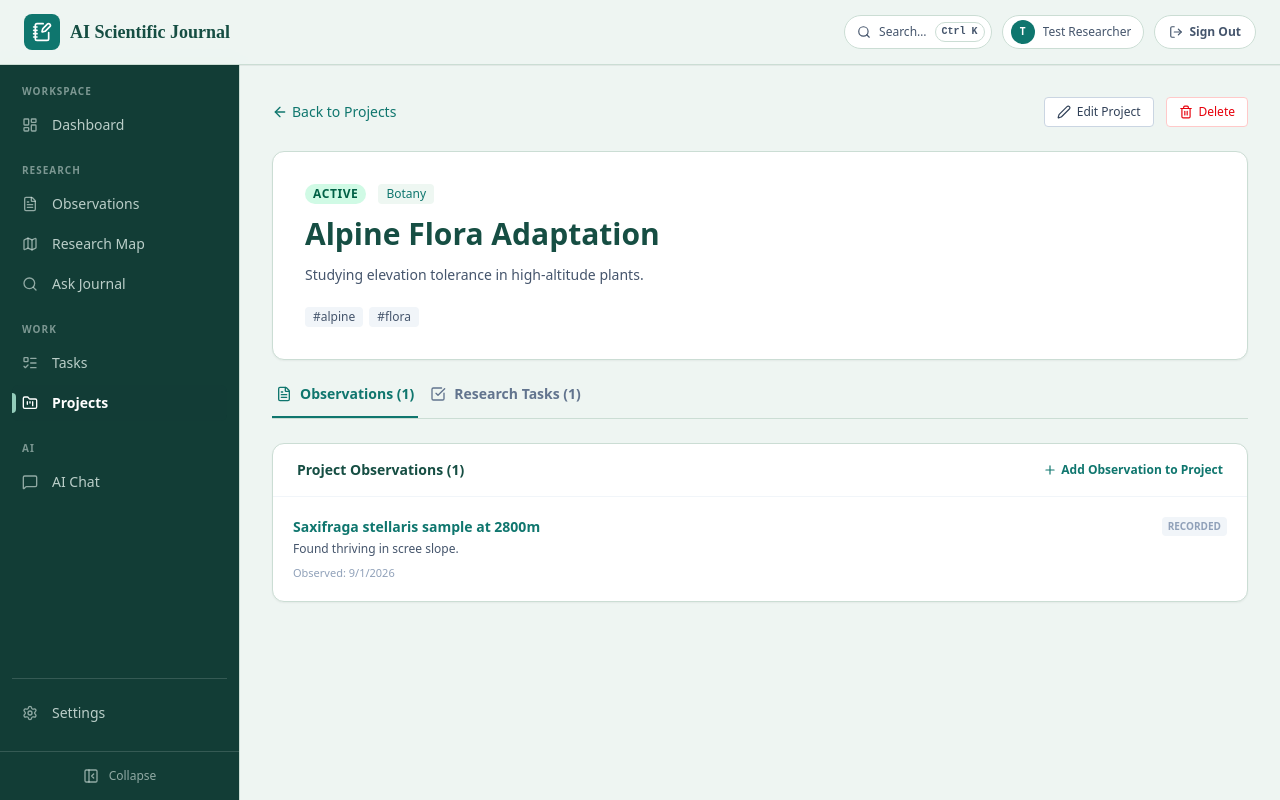
ProjectDetailPage Component › renders project details, observations, and switches to tasks tab
expect the heading "Alpine Flora Adaptation" is shown: met, box 305,213 -> 660,254
expect the text "Studying elevation tolerance in high-altitude plants." is shown: met, box 305,265 -> 644,284
# Switch to Tasks Tab
Click the button "Research Tasks (1)". click: (506, 401)
box: 426,384 -> 585,418
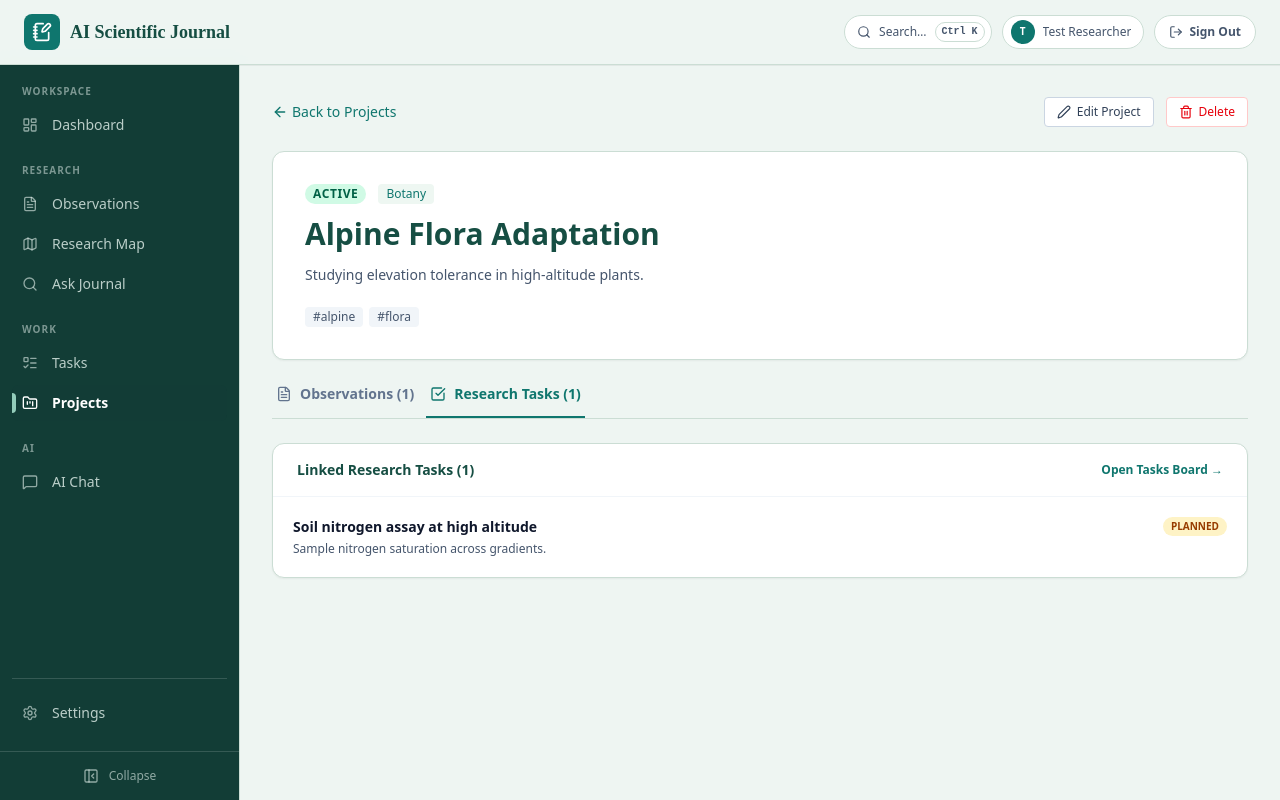
expect the text "Soil nitrogen assay at high altitude" is shown: met, box 293,517 -> 537,537
